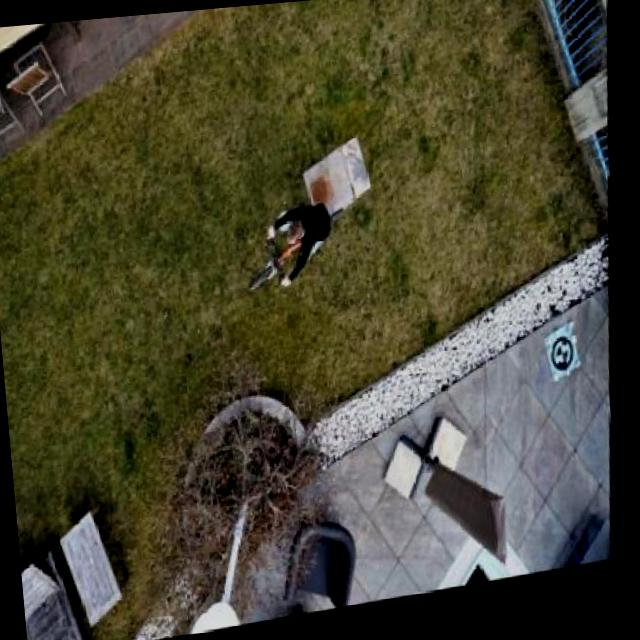Person: (264, 198, 349, 302)
